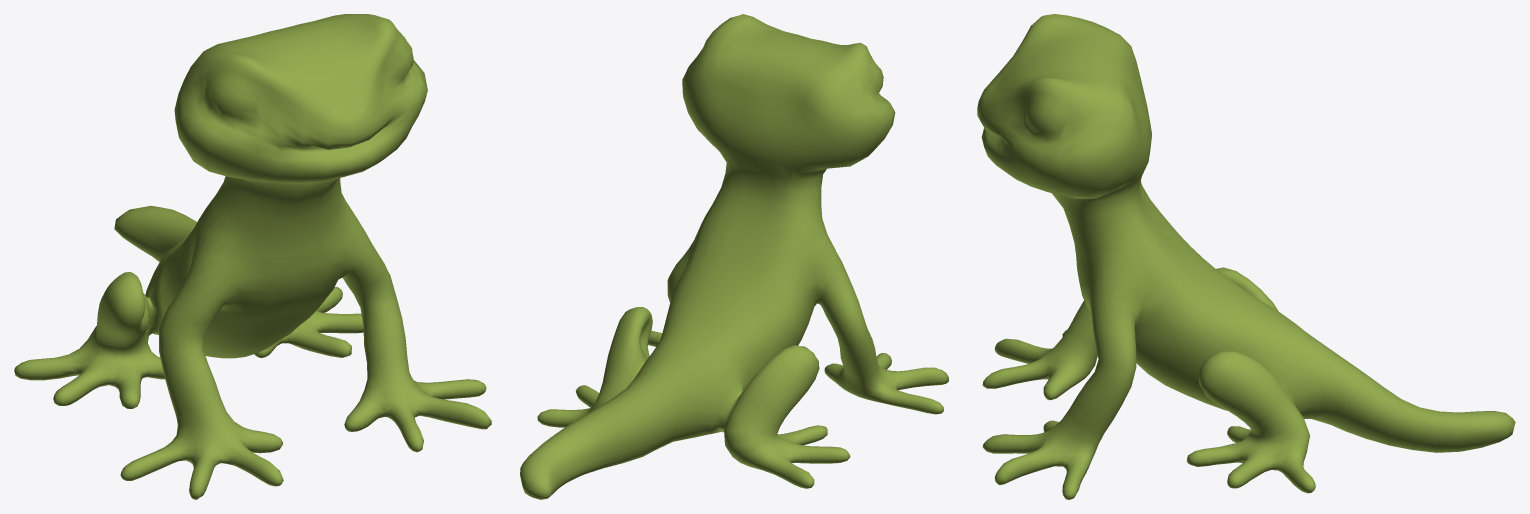
The picture shows the model from 3 angles, left to right: view 1: azimuth 30°, elevation 25°; view 2: azimuth 150°, elevation 25°; view 3: azimuth 270°, elevation 25°; orthographic projection. The views are drawn at different scales.
Parts seen in each view (by area): view 1: Gecko_0; view 2: Gecko_0; view 3: Gecko_0.
Part boxes in pixels (x1,y1,x2,y2): Gecko_0: (14, 14, 491, 499); Gecko_0: (520, 14, 948, 499); Gecko_0: (977, 14, 1515, 499).
Size of the model in its own units: 1.44 by 1.54 by 2.01.
1 material, 1 textured.
